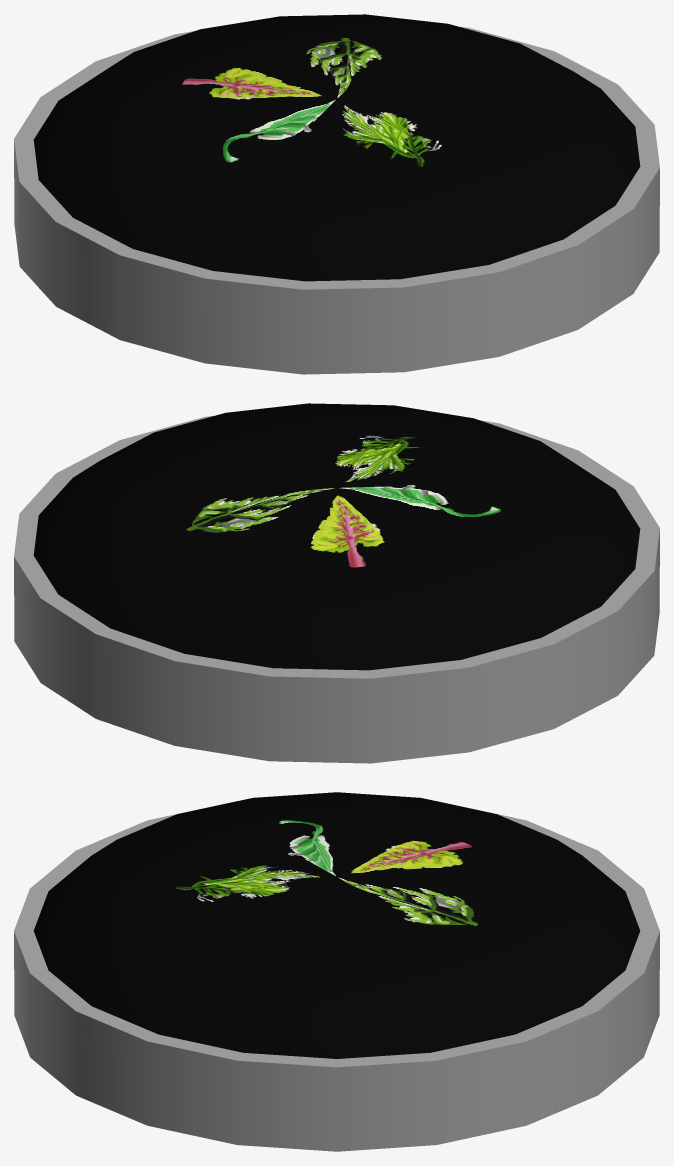
File: GooglyEye.fbx
The picture shows the model from 3 angles, top to bottom: view 1: azimuth 30°, elevation 25°; view 2: azimuth 150°, elevation 25°; view 3: azimuth 270°, elevation 25°; orthographic projection.
Parts seen in each view (by area): view 1: Googly; view 2: Googly; view 3: Googly.
Part boxes in pixels (<box>): Googly: <box>14,14,659,374</box>; Googly: <box>14,403,659,763</box>; Googly: <box>14,792,659,1151</box>.
Bounding box in the file's own units: 2.2 × 0.521 × 2.2.
